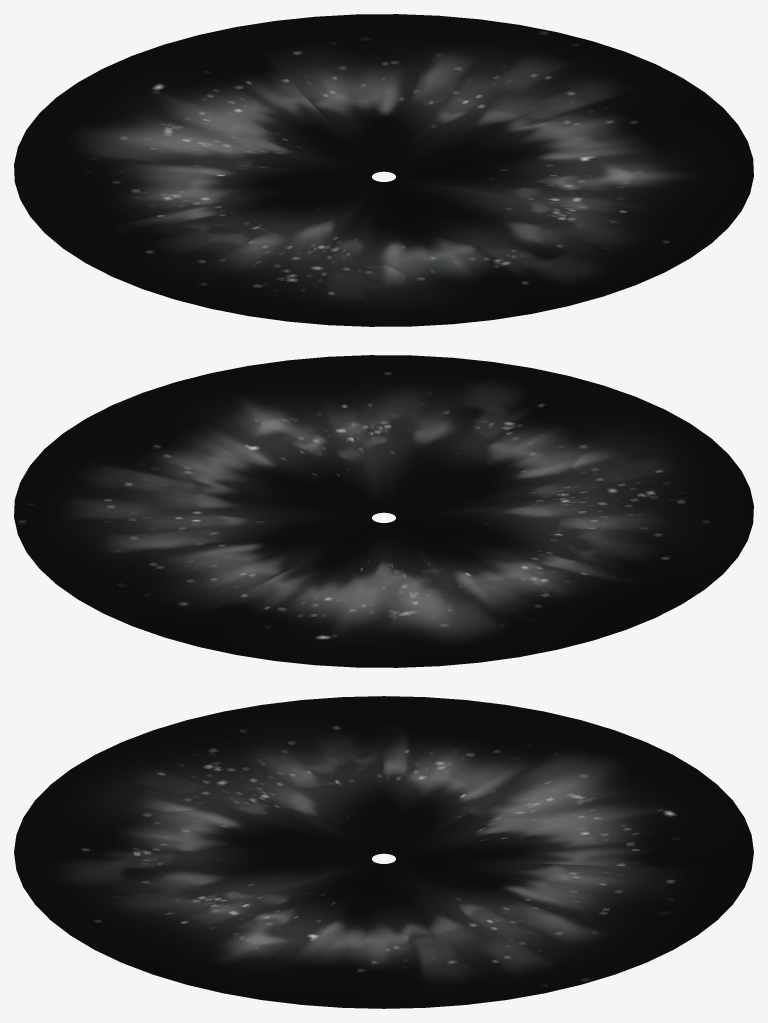
The model's file is FxRing_flow_1.fbx.
3 renders of one model, top to bottom at view 1: azimuth 30°, elevation 25°; view 2: azimuth 150°, elevation 25°; view 3: azimuth 270°, elevation 25°, orthographic.
Parts seen in each view (by area): view 1: FxRing_flow_1; view 2: FxRing_flow_1; view 3: FxRing_flow_1.
Boxes of the visible parts, x1,y1,x2,y2 form: FxRing_flow_1: (14, 14, 753, 326); FxRing_flow_1: (14, 355, 753, 667); FxRing_flow_1: (14, 696, 753, 1008).
Size of the model in its own units: 330 by 3.15 by 330.
1 material, 1 textured.
